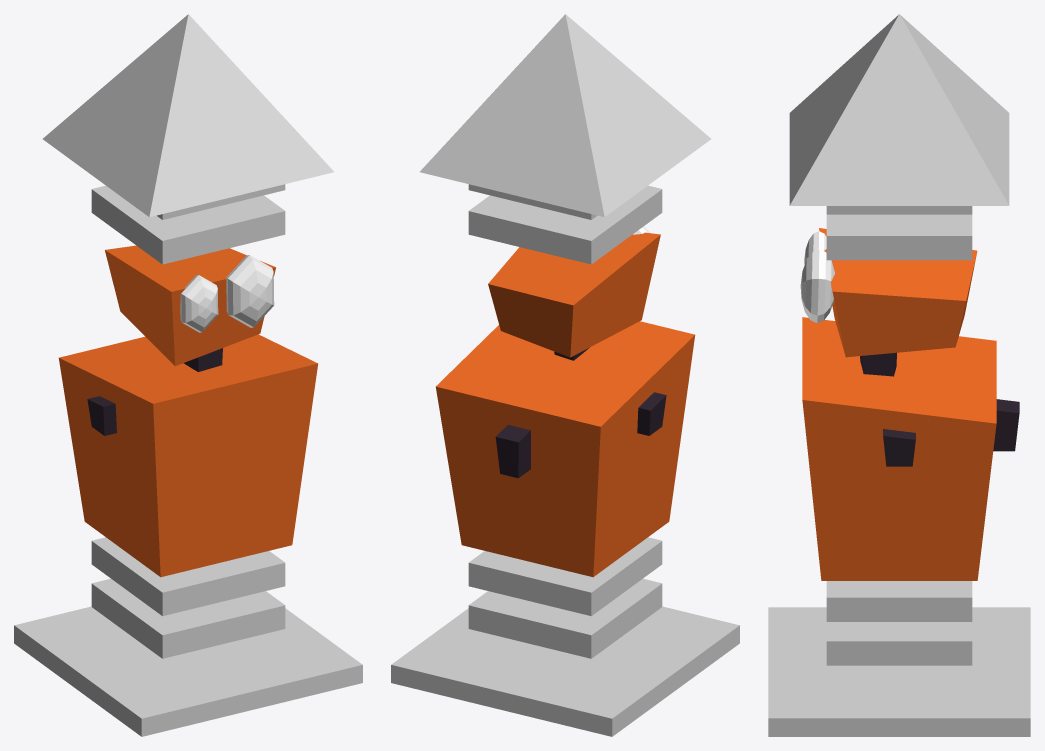
Rendered from JumpCardPreview.fbx.
The picture shows the model from 3 angles, left to right: view 1: azimuth 30°, elevation 25°; view 2: azimuth 150°, elevation 25°; view 3: azimuth 270°, elevation 25°; orthographic projection. The views are drawn at different scales.
Parts seen in each view (by area): view 1: Cube, Cube.009, Cube.006, Cube.001, Cube.010, Cube.008, Cube.007, Sphere, Sphere.001, Cube.004; view 2: Cube, Cube.009, Cube.006, Cube.001, Cube.010, Cube.008, Cube.007, Cube.003, Cube.004; view 3: Cube, Cube.009, Cube.006, Cube.001, Cube.008, Cube.010, Cube.007, Sphere, Cube.003, Cube.005, Cube.002.
Boxes of the visible parts, x1=… form: Cube: x1=58, y1=334, x2=318, y2=577; Cube.009: x1=43, y1=14, x2=333, y2=219; Cube.006: x1=14, y1=606, x2=362, y2=736; Cube.001: x1=105, y1=245, x2=275, y2=366; Cube.010: x1=91, y1=578, x2=285, y2=658; Cube.008: x1=91, y1=185, x2=285, y2=264; Cube.007: x1=91, y1=537, x2=285, y2=616; Sphere: x1=226, y1=255, x2=274, y2=327; Sphere.001: x1=180, y1=275, x2=218, y2=332; Cube.004: x1=87, y1=396, x2=116, y2=435; Cube: x1=435, y1=321, x2=695, y2=577; Cube.009: x1=420, y1=14, x2=710, y2=219; Cube.006: x1=391, y1=606, x2=739, y2=736; Cube.001: x1=488, y1=232, x2=660, y2=357; Cube.010: x1=468, y1=578, x2=662, y2=658; Cube.008: x1=468, y1=185, x2=662, y2=264; Cube.007: x1=468, y1=537, x2=662, y2=616; Cube.003: x1=495, y1=425, x2=530, y2=478; Cube.004: x1=637, y1=392, x2=666, y2=435; Cube: x1=802, y1=317, x2=996, y2=580; Cube.009: x1=789, y1=14, x2=1009, y2=214; Cube.006: x1=768, y1=607, x2=1030, y2=736; Cube.001: x1=819, y1=228, x2=977, y2=357; Cube.008: x1=826, y1=214, x2=972, y2=260; Cube.010: x1=826, y1=622, x2=972, y2=665; Cube.007: x1=826, y1=581, x2=972, y2=621; Sphere: x1=800, y1=249, x2=834, y2=323; Cube.003: x1=993, y1=399, x2=1019, y2=451; Cube.005: x1=883, y1=429, x2=915, y2=466; Cube.002: x1=860, y1=352, x2=896, y2=376.
Size of the model in its own units: 134 by 376 by 134.
